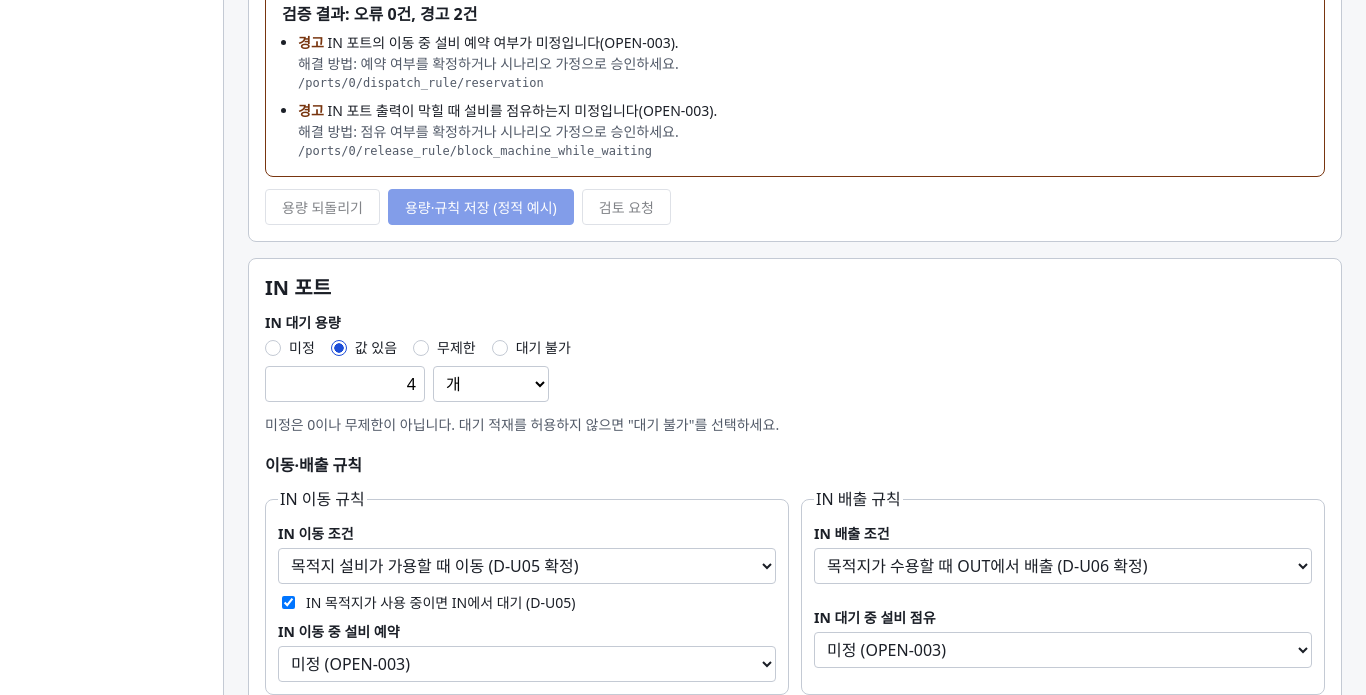
설비 상세: 설비(승인본 + 초안) › 용량에 0을 입력하면 오류이고 대기 불가를 안내한다
The image size is (1366, 695).
(page scrolled)
Clear the field named "IN 대기 용량 값" at [345, 384], box [265,366,425,402]
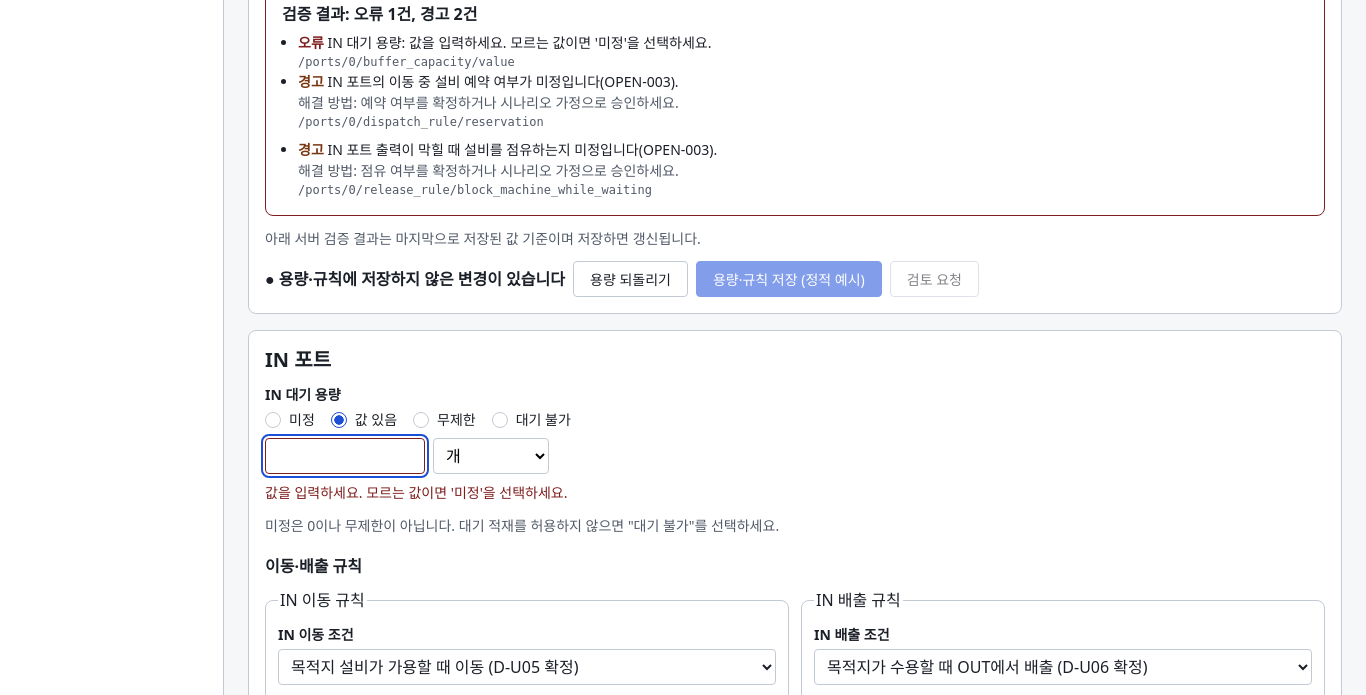
Type "0" into the field named "IN 대기 용량 값".
click(345, 456); type("0")  # box [265,438,425,474]
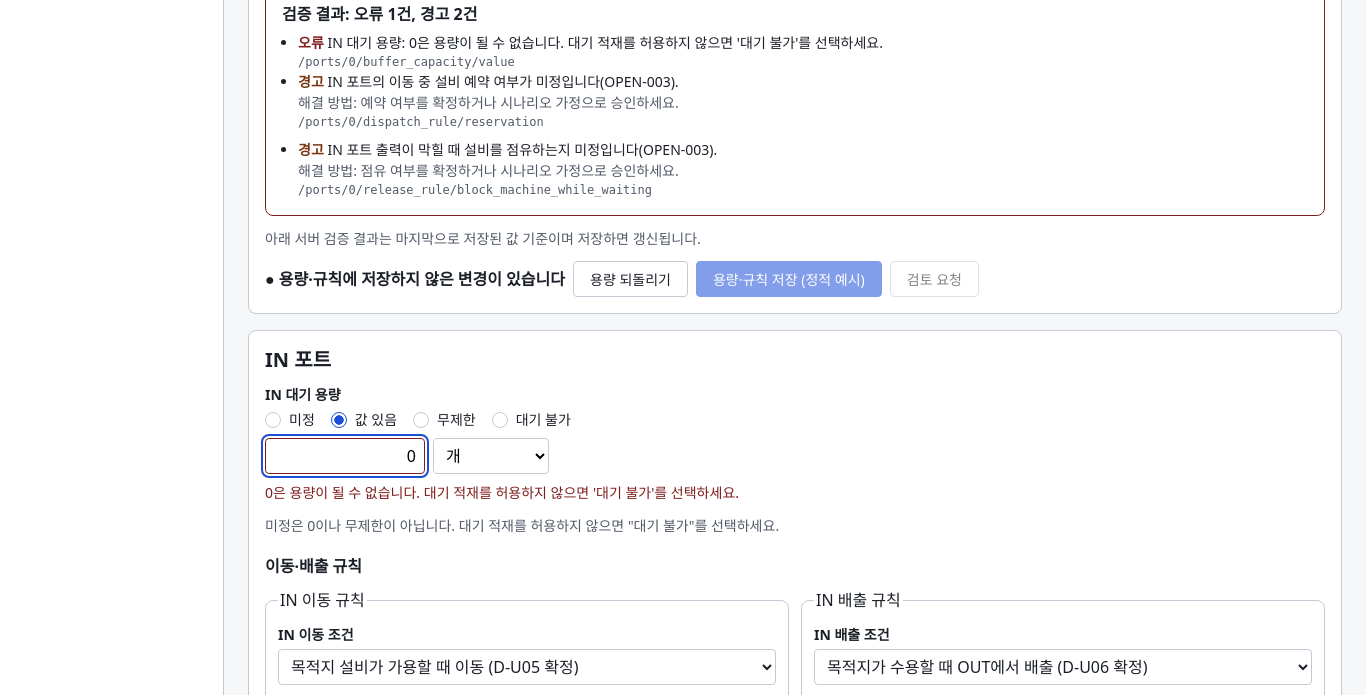
Now the text "● 용량·규칙에 저장하지 않은 변경이 있습니다" is shown, box [265,267,565,291]
Now the list item "대기 불가" is shown, box [327,33,883,52]
